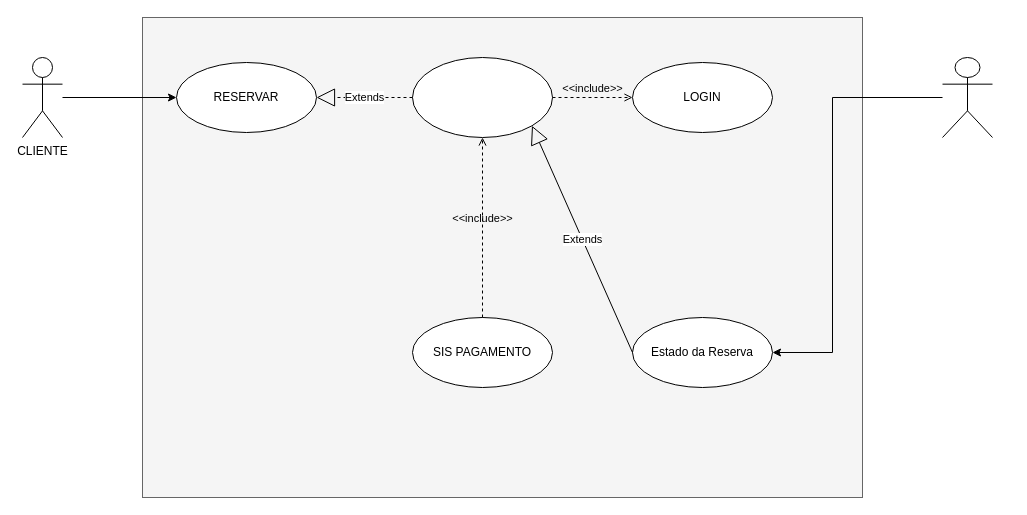
This 1027x515 diagram has some shape labels left out. The centre of each missing label's shape, as x and y in pixels:
FUNCIONARIO: [967,97]
SIS RESERVA: [482,97]
